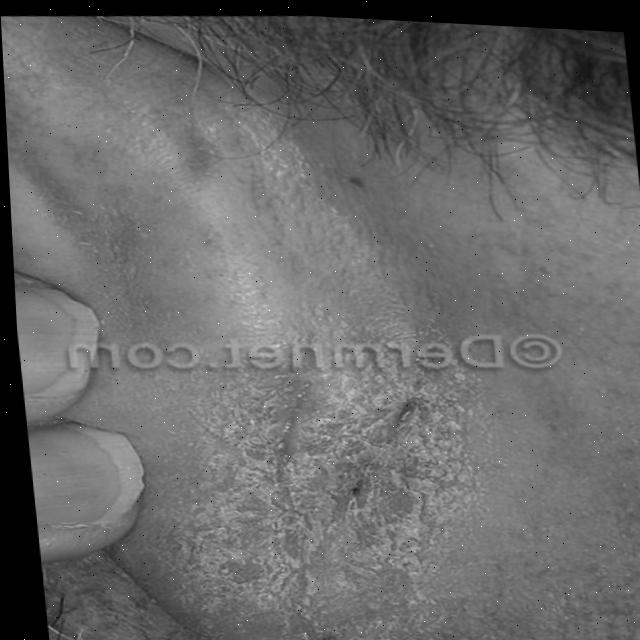Eczema: (128, 301, 499, 640)
